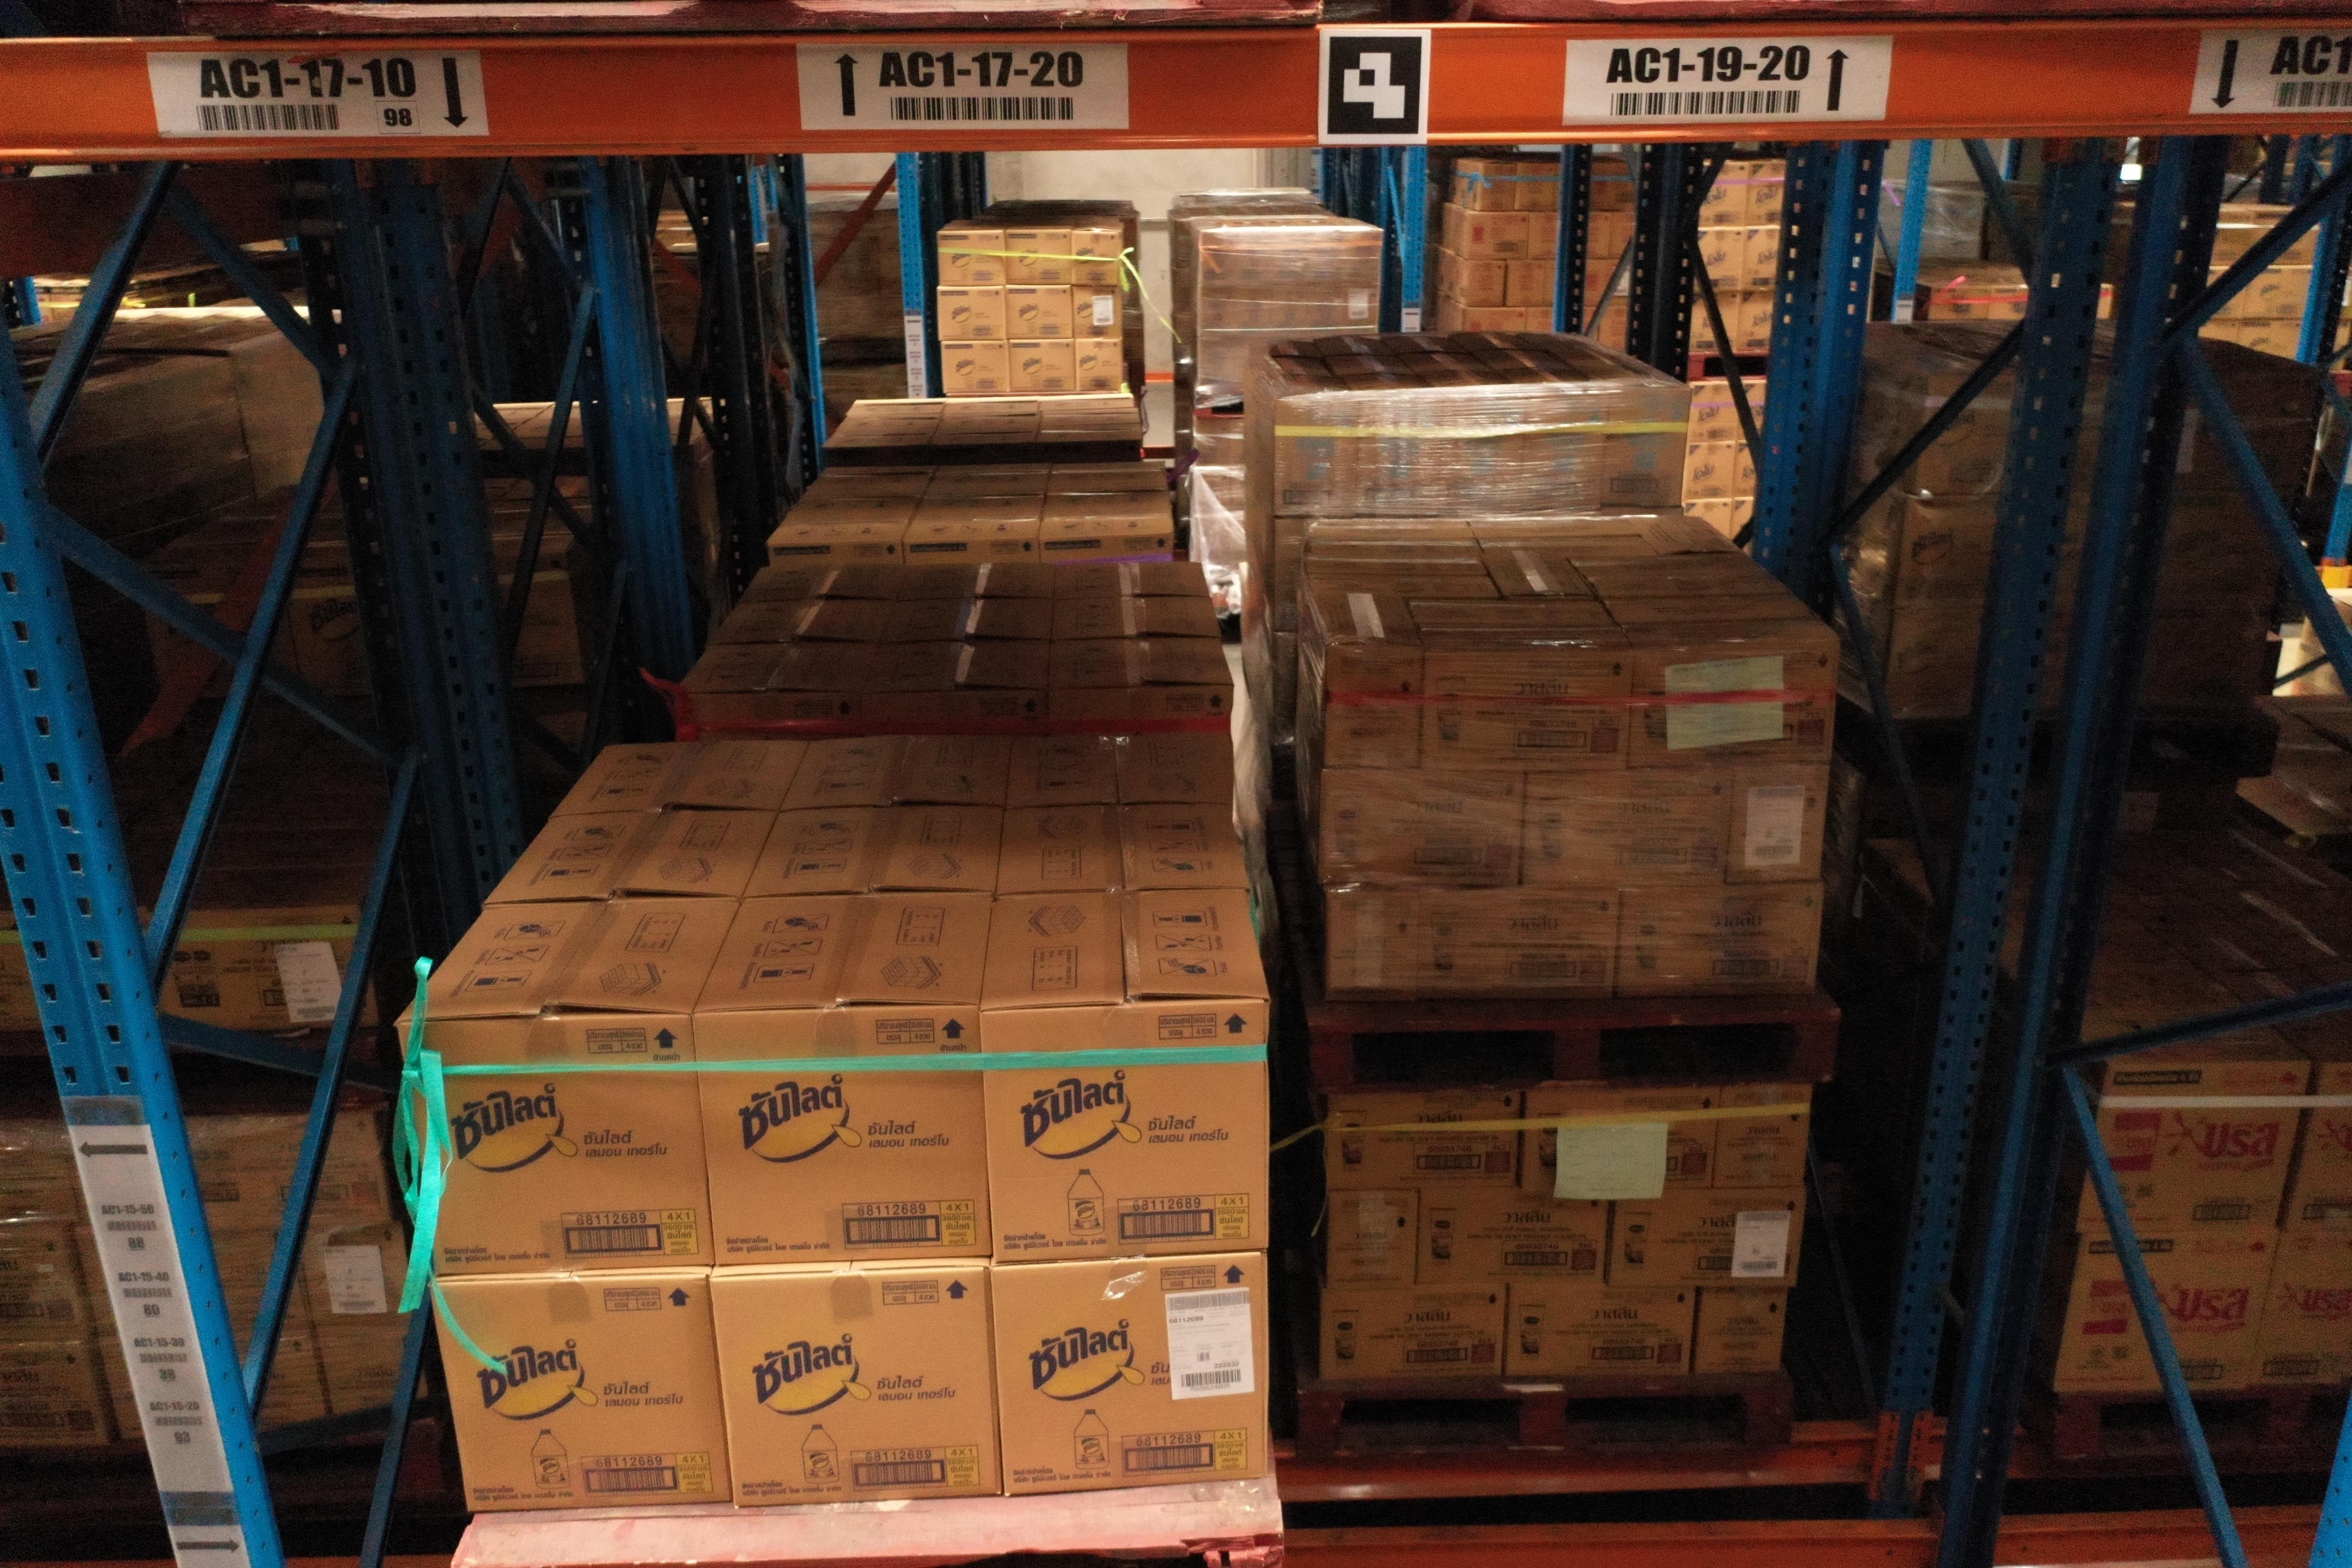-: (390, 1010, 719, 1283), (978, 996, 1272, 1267), (693, 1004, 992, 1269), (432, 1277, 733, 1519), (989, 1248, 1270, 1498), (710, 1269, 1001, 1507)
box: (2072, 1060, 2312, 1241), (2054, 1232, 2278, 1395), (147, 905, 378, 1036), (1626, 633, 1839, 773), (1417, 647, 1633, 772), (1521, 763, 1732, 889), (1319, 766, 1528, 892), (182, 1109, 392, 1234), (1619, 882, 1820, 997), (1521, 1088, 1724, 1195), (1417, 889, 1619, 996), (1414, 1192, 1612, 1293), (1606, 1188, 1804, 1290), (1325, 1094, 1521, 1195), (1319, 1290, 1508, 1384), (1505, 1288, 1696, 1377), (2247, 1228, 2352, 1389), (1321, 639, 1423, 770), (1727, 761, 1829, 889), (0, 1340, 115, 1451), (310, 1318, 430, 1423), (292, 1223, 420, 1321), (2280, 1066, 2352, 1239), (0, 1221, 89, 1347), (231, 1326, 332, 1433), (1717, 1083, 1813, 1193), (1328, 889, 1421, 1003), (210, 1232, 310, 1326), (1330, 1192, 1416, 1295), (0, 1125, 79, 1227), (1696, 1288, 1785, 1375)
